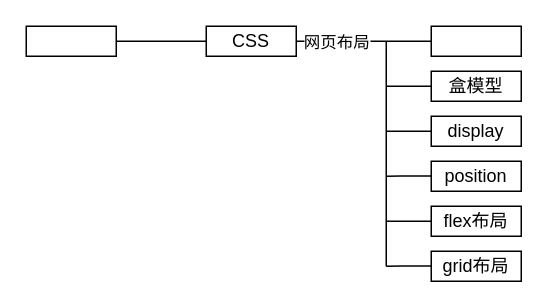
Some shapes in this 548 by 308 pixel diagram are drawn without their labels. Each missing label, with the centre of its shape:
"C++全栈" goes at (x=70, y=40).
"选择器" goes at (x=475, y=40).
